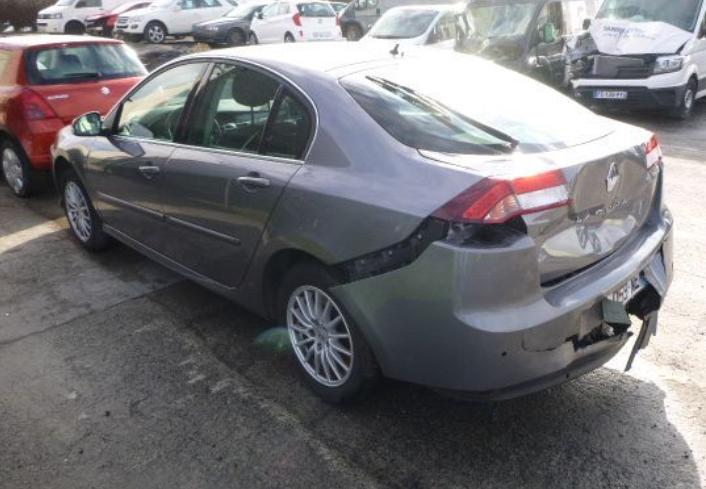Back-bumper: (329, 173, 674, 401)
Back-door: (163, 55, 320, 287)
Back-wheel: (277, 257, 379, 404)
Back-window: (184, 62, 311, 158)
Back-windshield: (339, 60, 619, 155)
Fender: (52, 125, 94, 182)
Front-door: (83, 55, 214, 259)
Front-wheel: (61, 176, 110, 251)
Front-window: (117, 63, 208, 141)
License-plate: (602, 272, 644, 323)
Mirror: (72, 111, 108, 136)
Quarter-panel: (241, 149, 491, 290)
Rocker-panel: (102, 223, 266, 317)
Roof: (174, 43, 490, 80)
Tail-light: (431, 165, 568, 223), (639, 131, 662, 171)
Trunk: (419, 123, 659, 283)
